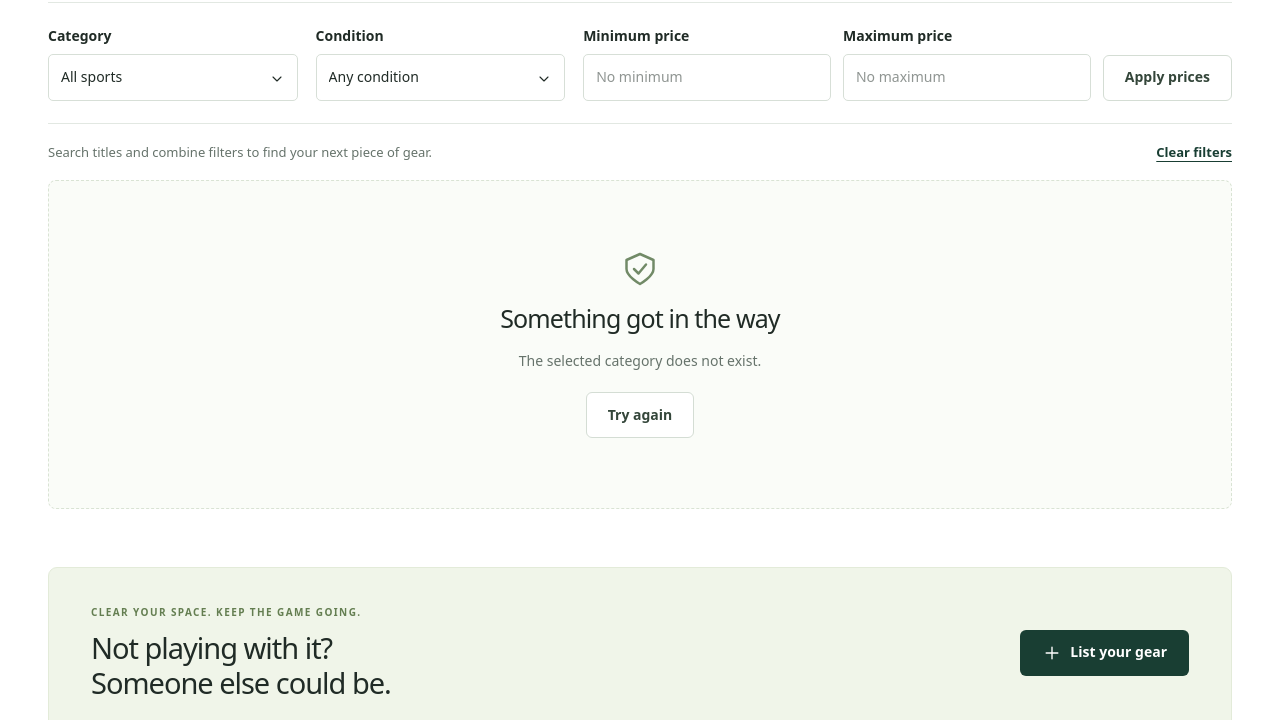
Test: server-side marketplace search › shows server filter errors and recovers from a retry
(page scrolled)
Expected: the text "The selected category does not exist." is shown, [519, 350, 761, 372]
Click the button "Try again": [640, 416] box [586, 392, 694, 438]
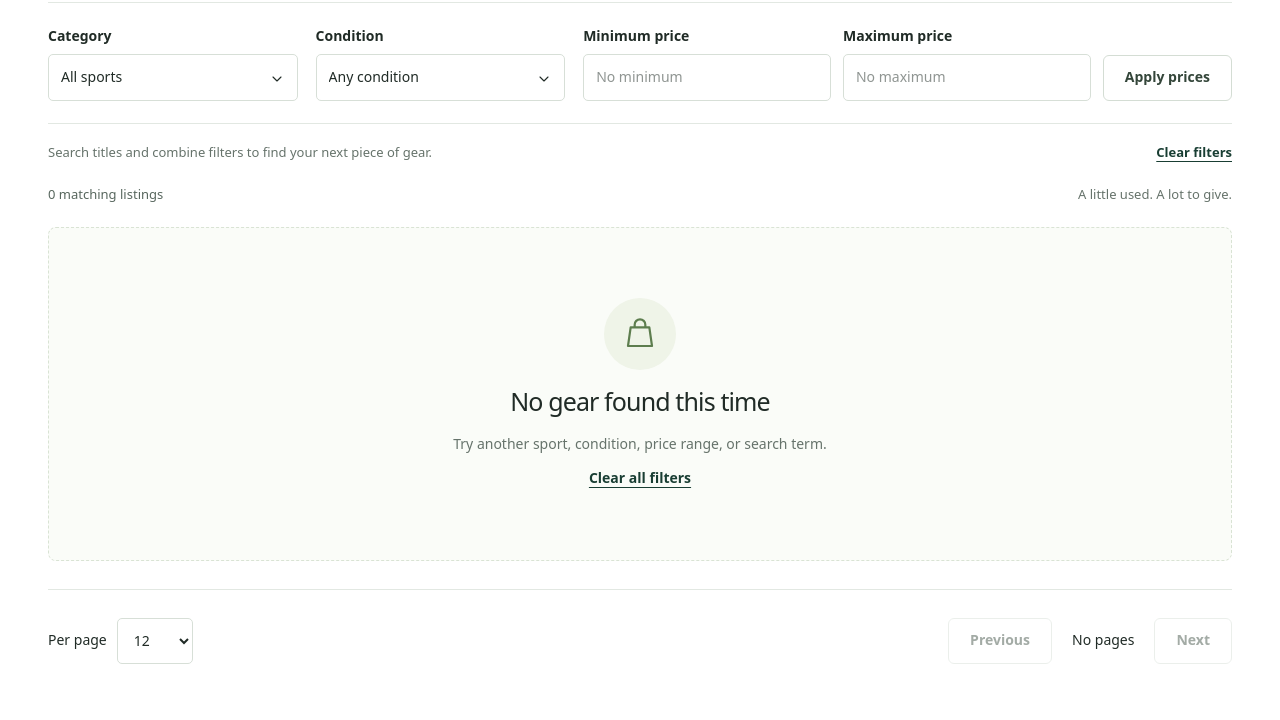
Expected: the heading "No gear found this time" is shown, [510, 387, 770, 416]
